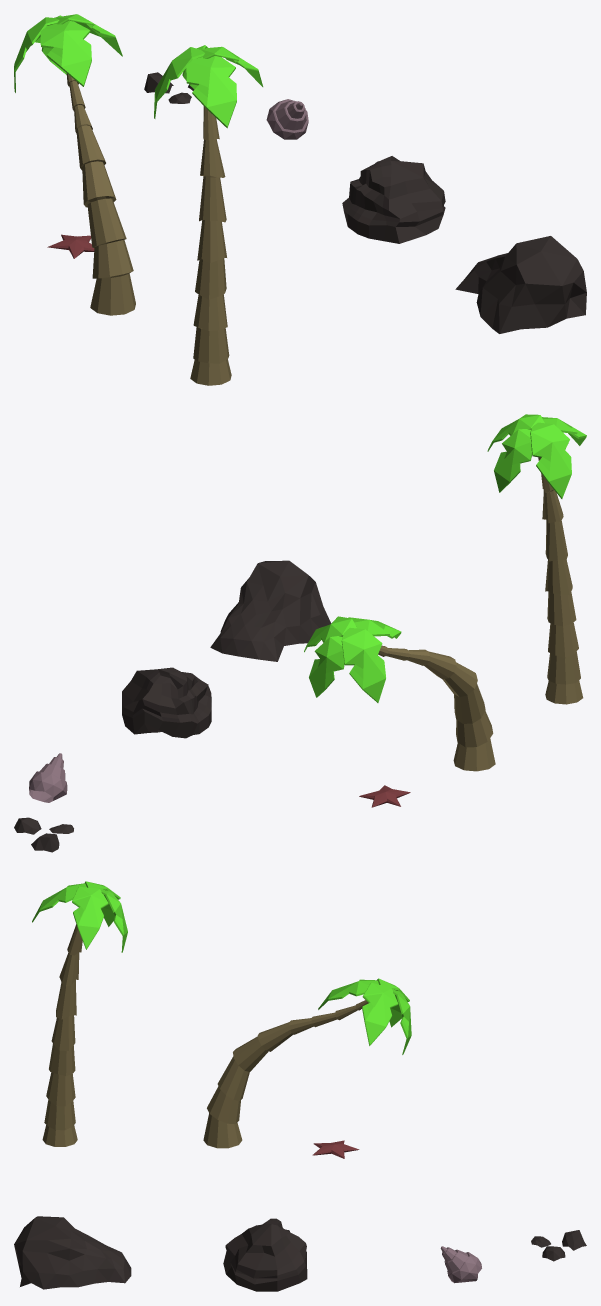
Rendered from Colored_Nature_Asset_Collection.fbx.
3 renders of one model, top to bottom at view 1: azimuth 30°, elevation 25°; view 2: azimuth 150°, elevation 25°; view 3: azimuth 270°, elevation 25°, orthographic. The views are drawn at different scales.
Parts seen in each view (by area): view 1: PalmTree, BentPalm, Rock2, Rock1, Shell, StarFish, Peble1; view 2: PalmTree, BentPalm, Rock2, Rock1, Shell, Peble1; view 3: PalmTree, BentPalm, Rock2, Rock1, Shell, Peble1.
Part boxes in pixels (x1,y1,x2,y2): PalmTree: (154, 45, 263, 385); BentPalm: (14, 14, 135, 315); Rock2: (455, 236, 586, 333); Rock1: (342, 156, 445, 243); Shell: (266, 99, 308, 139); StarFish: (47, 234, 94, 258); Peble1: (144, 72, 194, 103); PalmTree: (487, 414, 586, 704); BentPalm: (304, 616, 495, 771); Rock2: (210, 560, 330, 661); Rock1: (122, 667, 211, 738); Shell: (29, 753, 67, 802); Peble1: (14, 817, 73, 852); PalmTree: (32, 881, 127, 1146); BentPalm: (203, 978, 411, 1148); Rock2: (14, 1216, 131, 1289); Rock1: (223, 1218, 307, 1291); Shell: (440, 1246, 481, 1283); Peble1: (531, 1230, 586, 1261).
Bounding box in the file's own units: 649 × 511 × 979.
